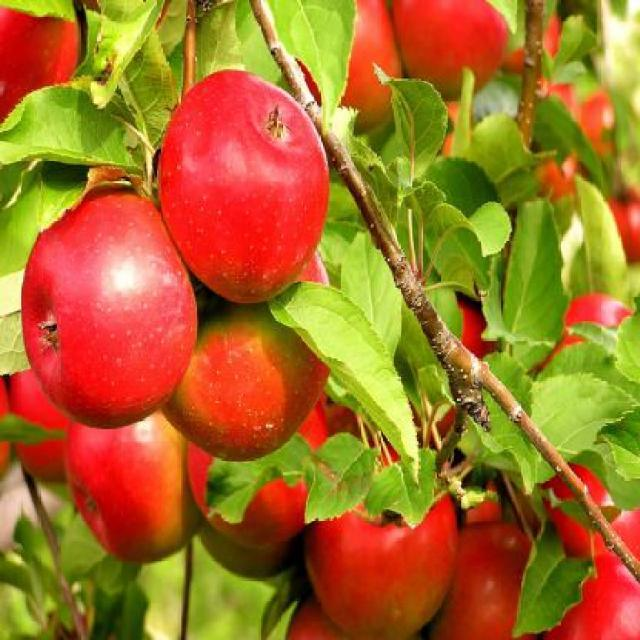Peach: (0, 70, 640, 639), (295, 0, 640, 268), (0, 0, 78, 121)
